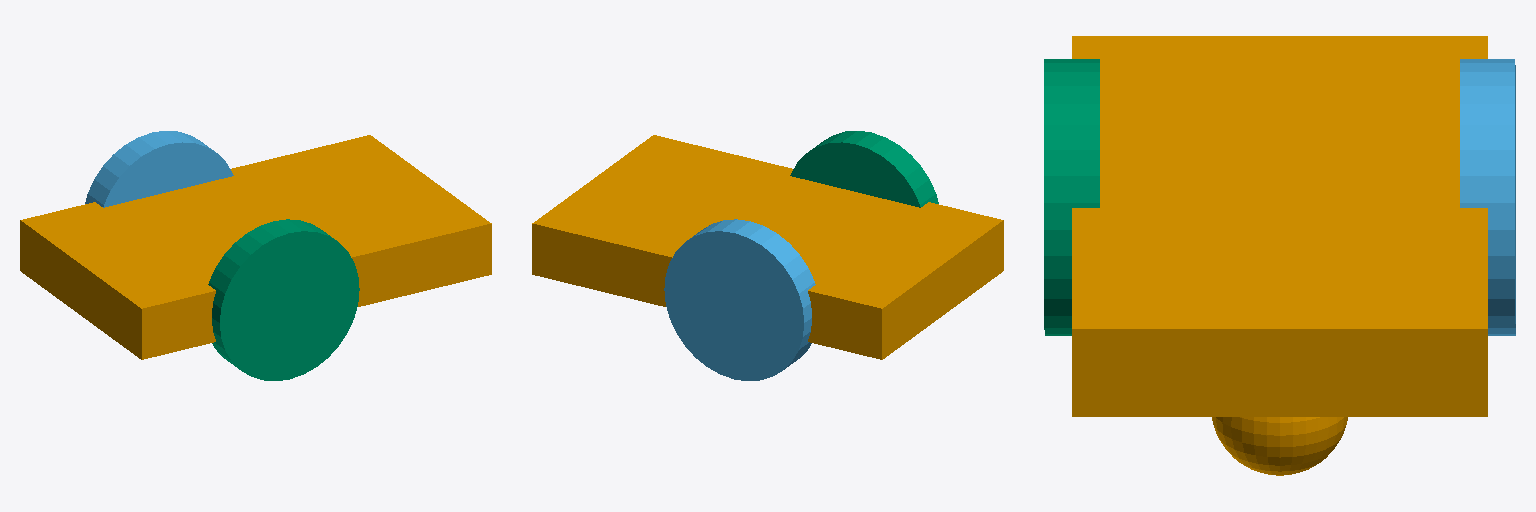
robot.urdf — RoboBot:
<?xml version="1.0" ?>
<!--rosrun gazebo_ros spawn_model -file ~/Simulation/src/diff_drive_description/urdf/diff_drive.urdf -urdf -x 1 -model diff_drive-->
<!--rosrun teleop_twist_keyboard teleop_twist_keyboard.py-->
<robot name="RoboBot" xmlns:xacro="https://www.ros.org/wiki/xacro" >

    <gazebo reference="left_wheel">
      <material>Gazebo/Turquoise</material>
    </gazebo>
    <gazebo reference="right_wheel">
      <material>Gazebo/Turquoise</material>
    </gazebo>
   <!--<gazebo reference="chassis">
      <material>
       <script>
          <uri>materials://scripts/repeated.material</uri>
          <name>Template/Blue</name>
        </script>

      </material>
    </gazebo> -->

    <gazebo>
      <plugin filename="libgazebo_ros_diff_drive.so" name="differential_drive_controller">
        <legacyMode>false</legacyMode>
        <alwaysOn>true</alwaysOn>
        <updateRate>20</updateRate>
        <leftJoint>left_wheel_joint</leftJoint>
        <rightJoint>right_wheel_joint</rightJoint>
        <wheelSeparation>0.2</wheelSeparation>
        <wheelDiameter>0.2</wheelDiameter>
        <torque>0.2</torque>
        <commandTopic>cmd_vel</commandTopic>
        <odometryTopic>odom</odometryTopic>
        <odometryFrame>odom</odometryFrame>
        <robotBaseFrame>chassis</robotBaseFrame>
      </plugin>
    </gazebo>


    <link name="chassis">
      <pose>0 0 0.1 0 0 0</pose>
      <inertial>
        <mass value="5"/>
        <origin rpy="0 0 0" xyz="0 0 0.1"/>
        <inertia ixx="0.0395" ixy="0" ixz="0" iyy="0.1062" iyz="0" izz="0.1062"/>
      </inertial>

      <collision>
        <geometry>
          <box size="0.5 0.3 0.07"/>
        </geometry>
      </collision>

      <visual>
        <origin rpy="0 0 0" xyz="0 0 0"/>
        <geometry>
          <box size="0.5 0.3 0.07"/>
        </geometry>
      </visual>

      <collision >
        <origin rpy=" 0 0 0" xyz="0.35 0 -0.05"/>
        <geometry>
          <sphere radius="0.05"/>
        </geometry>
        <surface>
          <friction>
            <ode>
              <mu>0</mu>
              <mu2>0</mu2>
              <slip1>1.0</slip1>
              <slip2>1.0</slip2>
            </ode>
          </friction>
        </surface>
      </collision>

      <visual>
        <origin rpy=" 0 0 0" xyz="0.2 0 -0.05"/>
        <geometry>
          <sphere radius="0.05"/>
        </geometry>
      </visual>

    </link>
    <link name="right_wheel">
      <inertial>
        <mass value="0.2"/>
        <origin rpy="0 1.5707 1.5707" xyz="0 0 0"/>
        <inertia ixx="0.0005" ixy="0" ixz="0" iyy="0.0005" iyz="0" izz="0.001"/>
      </inertial>

      <collision>
        <origin rpy="0 1.5707 1.5707" xyz="0 0 0"/>
        <geometry>
          <cylinder length="0.04" radius="0.1"/>
        </geometry>
      </collision>

      <visual>
        <origin rpy="0 1.5707 1.5707" xyz="0 0 0"/>
        <geometry>
          <cylinder length="0.04" radius="0.1"/>
        </geometry>

      </visual>

    </link>


    <link name="left_wheel">
      <inertial>
        <mass value="0.2"/>
        <origin rpy="0 1.5707 1.5707" xyz="0 0 0"/>
        <inertia ixx="0.0005" ixy="0" ixz="0" iyy="0.0005" iyz="0" izz="0.001"/>
      </inertial>

      <collision>
        <origin rpy="0 1.5707 1.5707" xyz="0 0 0"/>
        <geometry>
          <cylinder length="0.04" radius="0.1"/>
        </geometry>
      </collision>

      <visual>
        <origin rpy="0 1.5707 1.5707" xyz="0 0 0"/>
        <geometry>
          <cylinder length="0.04" radius="0.1"/>
        </geometry>
      </visual>

    </link>
    <joint type="continuous" name="right_wheel_joint">
      <origin rpy="0 0 0" xyz="-0.05 0.15 0"/>
      <child link="right_wheel"/>
      <parent link="chassis"/>
      <axis rpy="0 0 0" xyz="0 1 0"/>
    </joint>

    <joint type="continuous" name="left_wheel_joint" >
      <origin rpy="0 0 0" xyz="-0.05 -0.15 0"/>
      <child link="left_wheel"/>
      <parent link="chassis"/>
      <axis rpy="0 0 0" xyz="0 1 0"/>
    </joint>
    
    <!--camera_1-->

    <link name="camera_1">
    <collision>
      <origin xyz="0 0 0" rpy="0 0 0"/>
      <geometry>
    <box size="0.05 0.05 0.05"/>
      </geometry>
    </collision>

    <visual>
      <origin xyz="0 0 0" rpy="0 0 0"/>
      <geometry>
    <box size="0.05 0.05 0.05"/>
      </geometry>
      <material name="red"/>
    </visual>

    <inertial>
      <mass value="1e-5" />
      <origin xyz="0 0 0" rpy="0 0 0"/>
      <inertia ixx="1e-6" ixy="0" ixz="0" iyy="1e-6" iyz="0" izz="1e-6" />
    </inertial>
  </link>
  <joint name="camera_1_joint" type="fixed">
    <axis xyz="0.2 0.2 0.02" />
    <origin xyz="0 0 0" rpy="0 0 0"/>
    <parent link="chassis"/>
    <child link="camera_1"/>
  </joint>
 <gazebo reference="camera_1">
    <sensor type="camera" name="camera1">
      <update_rate>30.0</update_rate>
      <camera name="head">
        <horizontal_fov>1.3962634</horizontal_fov>
        <image>
          <width>800</width>
          <height>800</height>
          <format>R8G8B8</format>
        </image>
        <clip>
          <near>0.02</near>
          <far>300</far>
        </clip>
        <noise>
          <type>gaussian</type>
          <!-- Noise is sampled independently per pixel on each frame.
               That pixel's noise value is added to each of its color
               channels, which at that point lie in the range [0,1]. -->
          <mean>0.0</mean>
          <stddev>0.007</stddev>
        </noise>
      </camera>
      <plugin name="camera_controller" filename="libgazebo_ros_camera.so">
        <alwaysOn>true</alwaysOn>
        <updateRate>0.0</updateRate>
        <cameraName>rrbot/camera1</cameraName>
        <imageTopicName>image_raw</imageTopicName>
        <cameraInfoTopicName>camera_info</cameraInfoTopicName>
        <frameName>camera_1</frameName>
        <hackBaseline>0.07</hackBaseline>
        <distortionK1>0.0</distortionK1>
        <distortionK2>0.0</distortionK2>
        <distortionK3>0.0</distortionK3>
        <distortionT1>0.0</distortionT1>
        <distortionT2>0.0</distortionT2>
      </plugin>
    </sensor>
  </gazebo>
  <!--camera_2-->

<link name="camera_2">
    <collision>
      <origin xyz="0 0 0" rpy="0 0 0"/>
      <geometry>
    <box size="0.05 0.05 0.05"/>
      </geometry>
    </collision>

    <visual>
      <origin xyz="0 0 0" rpy="0 0 0"/>
      <geometry>
    <box size="0.05 0.05 0.05"/>
      </geometry>
      <material name="red"/>
    </visual>

    <inertial>
      <mass value="1e-5" />
      <origin xyz="0 0 0" rpy="0 0 0"/>
      <inertia ixx="1e-6" ixy="0" ixz="0" iyy="1e-6" iyz="0" izz="1e-6" />
    </inertial>
  </link>
  <joint name="camera_2_joint" type="fixed">
    <axis xyz="0.2 -0.2 0.02" />
    <origin xyz="0 0 0" rpy="0 0 0"/>
    <parent link="chassis"/>
    <child link="camera_2"/>
  </joint>
   <gazebo reference="camera_2">
    <sensor type="multicamera" name="stereo_camera">
      <update_rate>30.0</update_rate>
      <camera name="left">
        <horizontal_fov>1.3962634</horizontal_fov>
        <image>
          <width>800</width>
          <height>800</height>
          <format>R8G8B8</format>
        </image>
        <clip>
          <near>0.02</near>
          <far>300</far>
        </clip>
        <noise>
          <type>gaussian</type>
          <mean>0.0</mean>
          <stddev>0.007</stddev>
        </noise>
      </camera>
      <camera name="right">
        <pose>0 -0.07 0 0 0 0</pose>
        <horizontal_fov>1.3962634</horizontal_fov>
        <image>
          <width>800</width>
          <height>800</height>
          <format>R8G8B8</format>
        </image>
        <clip>
          <near>0.02</near>
          <far>300</far>
        </clip>
        <noise>
          <type>gaussian</type>
          <mean>0.0</mean>
          <stddev>0.007</stddev>
        </noise>
      </camera>
      <plugin name="stereo_camera_controller" filename="libgazebo_ros_multicamera.so">
        <alwaysOn>true</alwaysOn>
        <updateRate>0.0</updateRate>
        <cameraName>multisense_sl/camera</cameraName>
        <imageTopicName>image_raw</imageTopicName>
        <cameraInfoTopicName>camera_info</cameraInfoTopicName>
        <frameName>left_camera_optical_frame</frameName>
        <!--<rightFrameName>right_camera_optical_frame</rightFrameName>-->
        <hackBaseline>0.07</hackBaseline>
        <distortionK1>0.0</distortionK1>
        <distortionK2>0.0</distortionK2>
        <distortionK3>0.0</distortionK3>
        <distortionT1>0.0</distortionT1>
        <distortionT2>0.0</distortionT2>
      </plugin>
    </sensor>
  </gazebo>
    <!-- Hokuyo Laser -->

   <joint name="hokuyo_1_joint" type="fixed">
    <axis xyz="0 1 0" />
    <origin xyz="0.2 0 0" rpy="0 0 0"/>
    <parent link="chassis"/>
    <child link="hokuyo_1"/>
  </joint>


  <link name="hokuyo_1">
    <collision>
      <origin xyz="0 0 0" rpy="0 0 0"/>
      <geometry>
    <box size="0.06 0.06 0.06"/>
      </geometry>
    </collision>

    <visual>
      <origin xyz="0 0 0" rpy="0 0 0"/>
      <geometry>
        <mesh filename="package://rrbot_description/meshes/hokuyo.dae"/>
      </geometry>
    </visual>

    <inertial>
      <mass value="1e-5" />
      <origin xyz="0 0 0" rpy="0 0 0"/>
      <inertia ixx="1e-6" ixy="0" ixz="0" iyy="1e-6" iyz="0" izz="1e-6" />
    </inertial>
  </link>
   <gazebo reference="hokuyo_1">
    <sensor type="gpu_ray" name="head_hokuyo_sensor">
      <pose>0 0 0 0 0 0</pose>
      <visualize>false</visualize>
      <update_rate>40</update_rate>
      <ray>
        <scan>
          <horizontal>
            <samples>720</samples>
            <resolution>1</resolution>
            <min_angle>-1.570796</min_angle>
            <max_angle>1.570796</max_angle>
          </horizontal>
        </scan>
        <range>
          <min>0.10</min>
          <max>30.0</max>
          <resolution>0.01</resolution>
        </range>
        <noise>
          <type>gaussian</type>
          <!-- Noise parameters based on published spec for Hokuyo laser
               achieving "+-30mm" accuracy at range < 10m.  A mean of 0.0m and
               stddev of 0.01m will put 99.7% of samples within 0.03m of the true
               reading. -->
          <mean>0.0</mean>
          <stddev>0.01</stddev>
        </noise>
      </ray>
      <plugin name="gazebo_ros_head_hokuyo_controller" filename="libgazebo_ros_gpu_laser.so">
        <topicName>/rrbot/laser/scan</topicName>
        <frameName>hokuyo_1</frameName>
      </plugin>
    </sensor>
  </gazebo>
  <!--laser 2-->
<joint name="hokuyo_2_joint" type="fixed">
    <axis xyz="0 1 0" />
    <origin xyz="0 0.2 0" rpy="0 0 0"/>
    <parent link="chassis"/>
    <child link="hokuyo_2"/>
  </joint>


  <link name="hokuyo_2">
    <collision>
      <origin xyz="0 0 0" rpy="0 0 0"/>
      <geometry>
    <box size="0.06 0.06 0.06"/>
      </geometry>
    </collision>

    <visual>
      <origin xyz="0 0 0" rpy="0 0 0"/>
      <geometry>
        <mesh filename="package://rrbot_description/meshes/hokuyo.dae"/>
      </geometry>
    </visual>

    <inertial>
      <mass value="1e-5" />
      <origin xyz="0 0 0" rpy="0 0 0"/>
      <inertia ixx="1e-6" ixy="0" ixz="0" iyy="1e-6" iyz="0" izz="1e-6" />
    </inertial>
  </link>
   <gazebo reference="hokuyo_2">
    <sensor type="gpu_ray" name="back_hokuyo_sensor">
      <pose>0 0 0 0 0 0</pose>
      <visualize>false</visualize>
      <update_rate>40</update_rate>
      <ray>
        <scan>
          <horizontal>
            <samples>720</samples>
            <resolution>1</resolution>
            <min_angle>-1.570796</min_angle>
            <max_angle>1.570796</max_angle>
          </horizontal>
        </scan>
        <range>
          <min>0.10</min>
          <max>30.0</max>
          <resolution>0.01</resolution>
        </range>
        <noise>
          <type>gaussian</type>
          <!-- Noise parameters based on published spec for Hokuyo laser
               achieving "+-30mm" accuracy at range < 10m.  A mean of 0.0m and
               stddev of 0.01m will put 99.7% of samples within 0.03m of the true
               reading. -->
          <mean>0.0</mean>
          <stddev>0.01</stddev>
        </noise>
      </ray>
      <plugin name="gazebo_ros_head_hokuyo_controller" filename="libgazebo_ros_gpu_laser.so">
        <topicName>/rrbot/laser/scan</topicName>
        <frameName>hokuyo_2</frameName>
      </plugin>
    </sensor>
  </gazebo>
  </robot>

--- What the picture shows (computed from the rendered views, not written in the file) ---
Views: 3 orthographic renders of the robot side by side, from view 1: azimuth 30°, elevation 25°; view 2: azimuth 150°, elevation 25°; view 3: azimuth 270°, elevation 25°.
Robot: RoboBot — 7 links, 6 joints (2 continuous, 4 fixed); root link chassis; default pose: all joints at 0.
Links seen in each view (by area): view 1: chassis, left_wheel, right_wheel; view 2: chassis, right_wheel, left_wheel; view 3: chassis, right_wheel, left_wheel.
Boxes of the visible links, x1=… form: chassis: x1=20, y1=135, x2=491, y2=359; left_wheel: x1=208, y1=219, x2=359, y2=380; right_wheel: x1=85, y1=131, x2=233, y2=207; chassis: x1=532, y1=135, x2=1003, y2=359; right_wheel: x1=664, y1=219, x2=815, y2=380; left_wheel: x1=790, y1=131, x2=938, y2=207; chassis: x1=1072, y1=36, x2=1487, y2=475; right_wheel: x1=1460, y1=59, x2=1515, y2=335; left_wheel: x1=1044, y1=59, x2=1099, y2=335.
Size in the robot's own frame: 0.5 by 0.34 by 0.2 metres.
0 mesh visuals loaded from 1 distinct referenced files (none loaded); not drawn: 2 (reference not matched to a file when rendering).